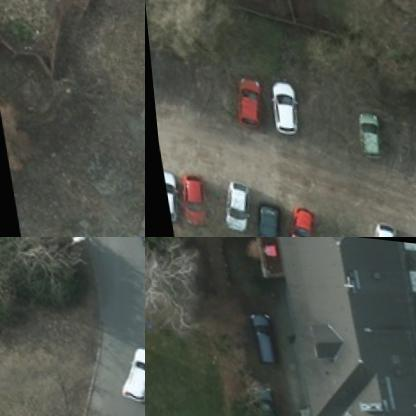car: (105, 333, 144, 399), (346, 104, 386, 161), (244, 304, 280, 364), (170, 172, 208, 228), (211, 177, 249, 232), (264, 76, 298, 136), (232, 73, 264, 134), (237, 375, 283, 415), (241, 197, 281, 236), (279, 203, 314, 236), (359, 215, 399, 236)
